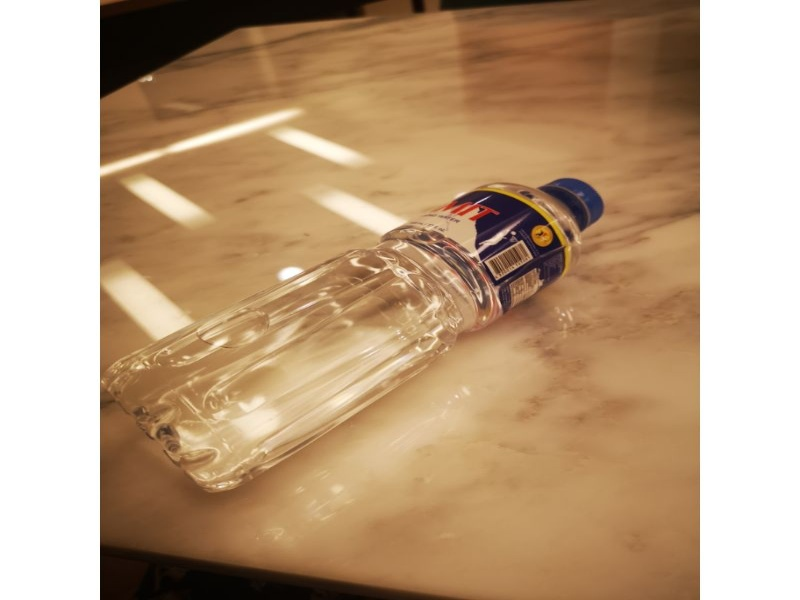PET #1: (104, 171, 607, 498)
